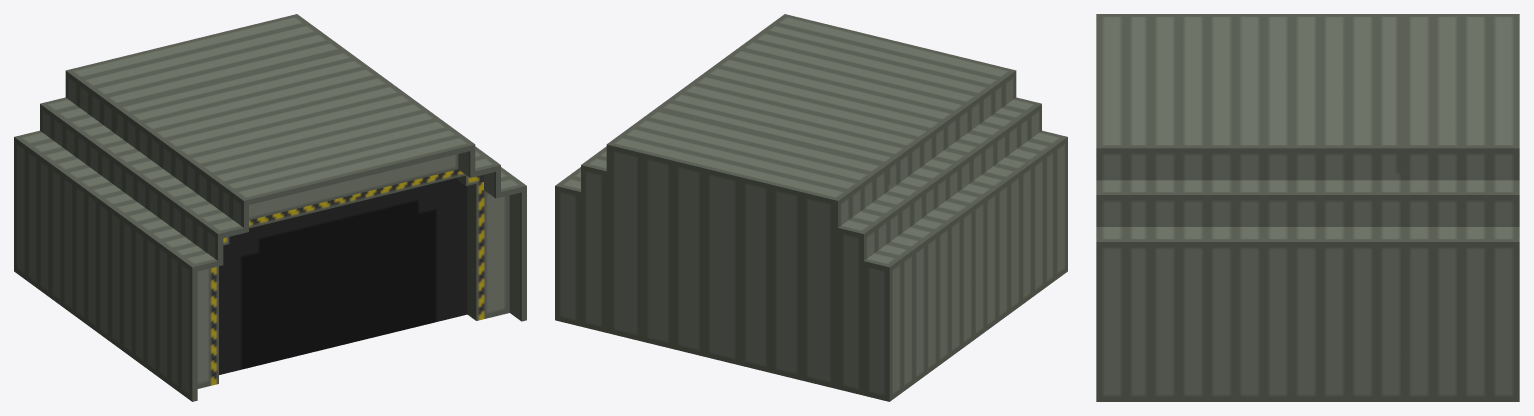
File: Angar_0.fbx
3 views of the same model, side by side, from view 1: azimuth 30°, elevation 25°; view 2: azimuth 150°, elevation 25°; view 3: azimuth 270°, elevation 25° (orthographic). The views are drawn at different scales.
Parts seen in each view (by area): view 1: Matrix_3; view 2: Matrix_3; view 3: Matrix_3.
Boxes of the visible parts, left/top/right/bottom form: Matrix_3: left=14, top=14, right=526, bottom=401; Matrix_3: left=555, top=14, right=1067, bottom=401; Matrix_3: left=1096, top=14, right=1519, bottom=401.
Bounding box in the file's own units: 130 × 70 × 120.
